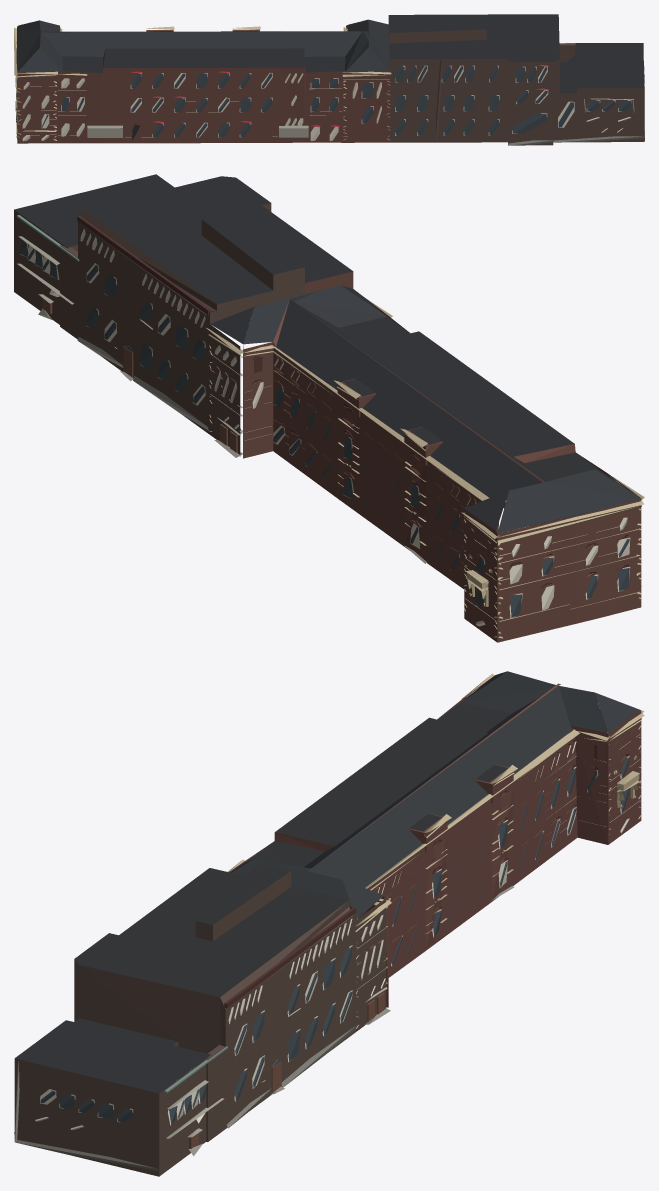
Rendered from kweekschool-machinisten.lod1.glb.
3 views of the same model, one above another, from view 1: azimuth 30°, elevation 25°; view 2: azimuth 150°, elevation 25°; view 3: azimuth 270°, elevation 25° (orthographic). The views are drawn at different scales.
Visible parts, largest first — view 1: kweekschool-machinisten; view 2: kweekschool-machinisten; view 3: kweekschool-machinisten.
Part boxes in pixels (x1,y1,x2,y2): kweekschool-machinisten: (14, 14, 644, 145); kweekschool-machinisten: (14, 174, 644, 642); kweekschool-machinisten: (14, 671, 644, 1176).
Size of the model in its own units: 105 by 18.2 by 71.25.
